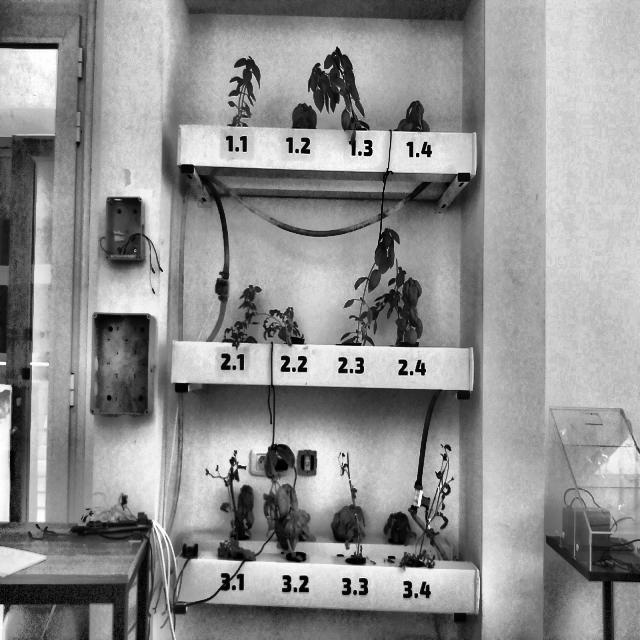plants: (337, 224, 401, 346), (412, 444, 458, 566), (264, 445, 312, 558), (314, 45, 375, 131), (337, 446, 370, 564), (382, 269, 424, 346), (220, 442, 246, 565), (266, 485, 312, 544), (226, 55, 262, 127), (227, 284, 265, 343), (260, 308, 304, 343), (393, 96, 436, 131), (231, 484, 256, 542), (330, 503, 366, 542), (385, 512, 412, 545), (292, 104, 318, 129)
